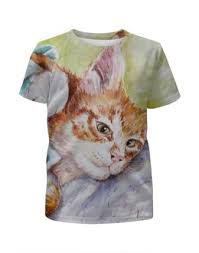cat: (51, 42, 149, 182)
